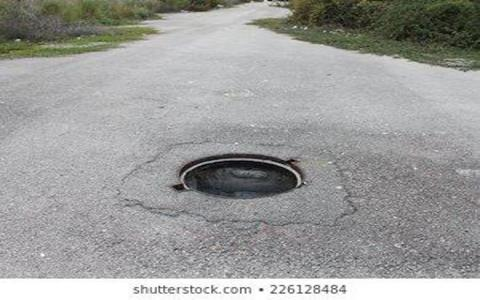open manhole: (153, 107, 318, 217)
